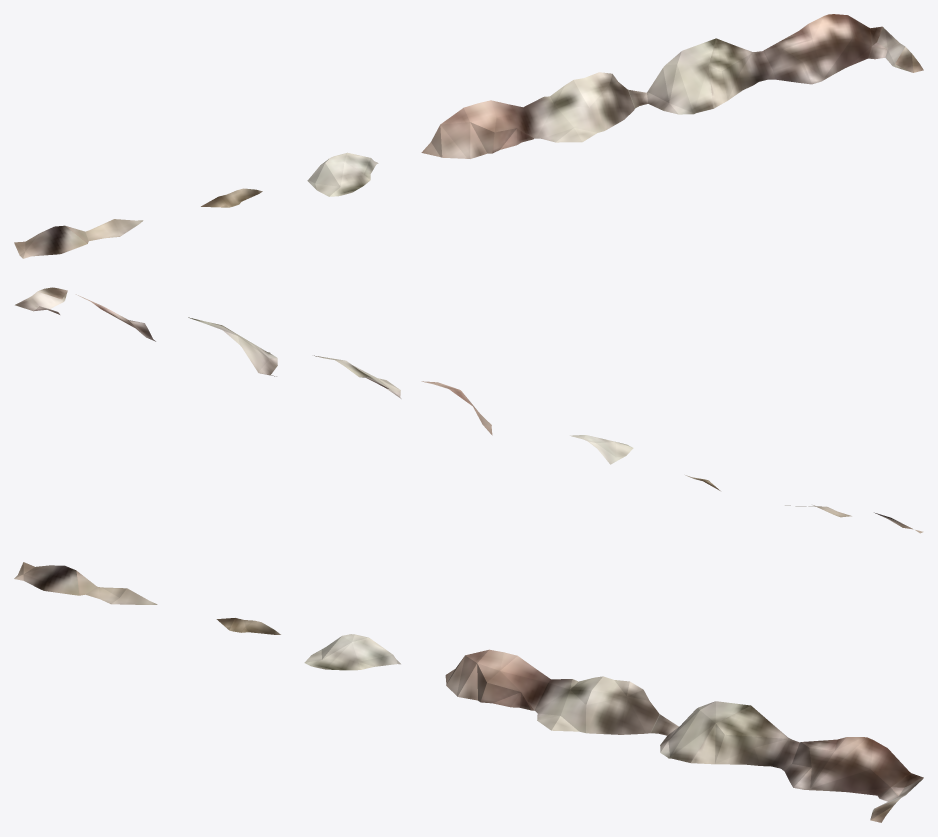
The picture shows the model from 3 angles, top to bottom: view 1: azimuth 30°, elevation 25°; view 2: azimuth 150°, elevation 25°; view 3: azimuth 330°, elevation 25°; orthographic projection. The views are drawn at different scales.
Size of the model in its own units: 1.67 by 0.0784 by 0.1375.
Materials: 1 (1 with a texture image).
